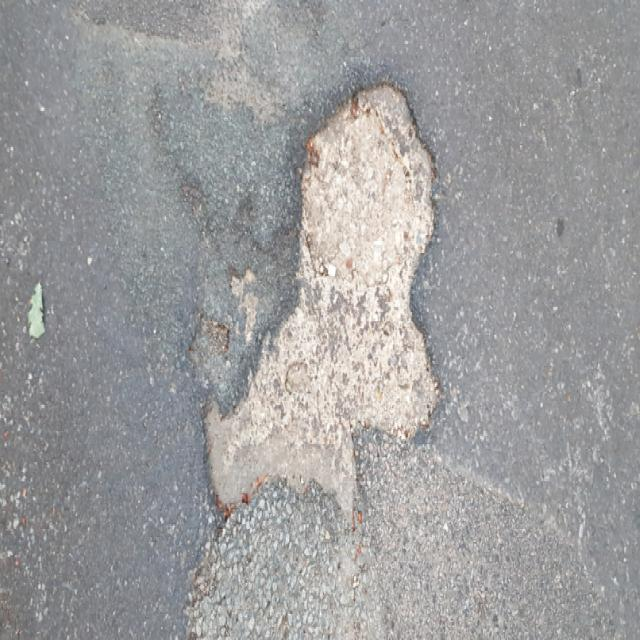pothole: (201, 67, 449, 537)
